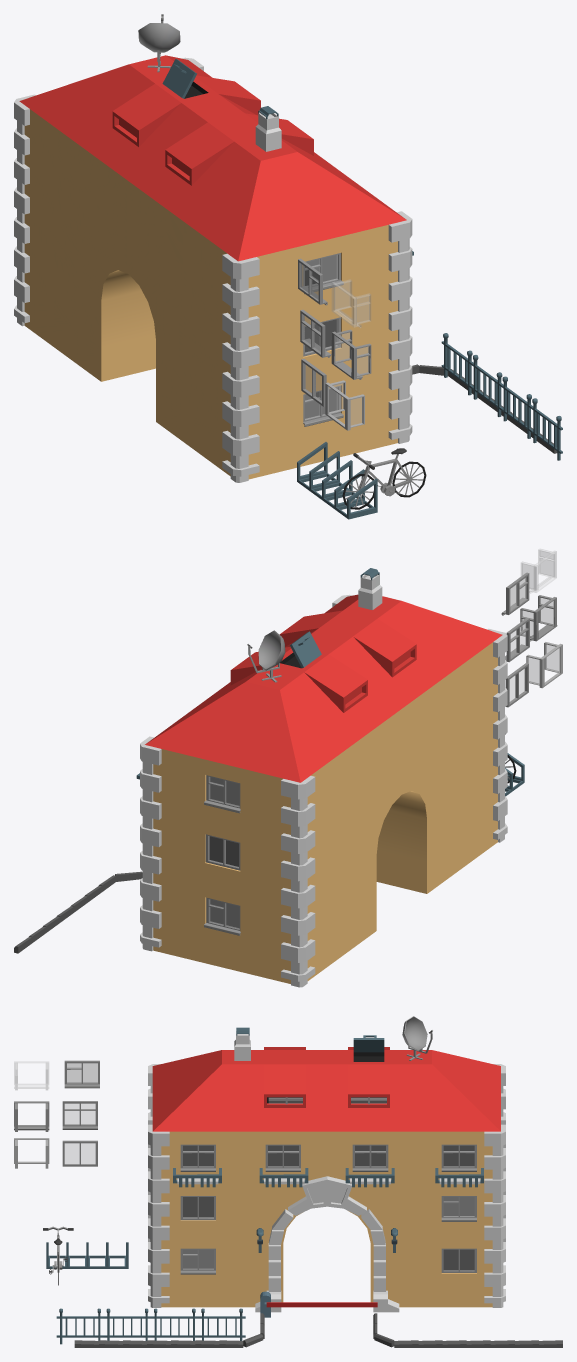
File: PanelHouse3.fbx
The picture shows the model from 3 angles, top to bottom: view 1: azimuth 30°, elevation 25°; view 2: azimuth 150°, elevation 25°; view 3: azimuth 270°, elevation 25°; orthographic projection. The views are drawn at different scales.
Visible parts, largest first — view 1: House, Roof, Decor, Fence, BikeParking, Bicycle, WindowOpen2, WindowOpen3, WindowOpen1, Pate, Flue, Window1.002 (+6 smaller); view 2: House, Roof, Decor, Curb.001, WindowOpen3, WindowOpen2, Window1.005, Window1.003, Pate, Window3.002, WindowOpen1, Flue (+3 smaller); view 3: House, Roof, Decor, Arch, Fence, Curb, Curb.001, Window2.004, Window1.004, Window2.003, Window2.001, Window2.002 (+16 smaller).
Part boxes in pixels (<box>): House: <box>24,109,397,479</box>; Roof: <box>19,55,406,261</box>; Decor: <box>14,57,412,482</box>; Fence: <box>441,333,562,460</box>; BikeParking: <box>297,442,377,519</box>; Bicycle: <box>342,448,426,509</box>; WindowOpen2: <box>331,329,371,379</box>; WindowOpen3: <box>325,380,364,430</box>; WindowOpen1: <box>332,279,370,327</box>; Pate: <box>138,14,180,72</box>; Flue: <box>255,106,281,151</box>; Window1.002: <box>303,385,343,426</box>; House: <box>153,642,497,983</box>; Roof: <box>145,594,502,782</box>; Decor: <box>140,594,507,987</box>; Curb.001: <box>14,871,142,953</box>; WindowOpen3: <box>526,642,562,688</box>; WindowOpen2: <box>520,595,557,641</box>; Window1.005: <box>204,897,240,935</box>; Window1.003: <box>204,775,240,813</box>; Pate: <box>247,630,285,682</box>; Window3.002: <box>205,834,240,870</box>; WindowOpen1: <box>521,549,556,593</box>; Flue: <box>358,568,382,609</box>; House: <box>161,1131,492,1307</box>; Roof: <box>152,1035,500,1131</box>; Decor: <box>148,1064,505,1307</box>; Arch: <box>255,1176,399,1312</box>; Fence: <box>56,1308,245,1344</box>; Curb: <box>74,1313,264,1347</box>; Curb.001: <box>373,1313,562,1347</box>; Window2.004: <box>62,1101,97,1129</box>; Window1.004: <box>64,1060,99,1088</box>; Window2.003: <box>352,1144,388,1171</box>; Window2.001: <box>180,1144,215,1171</box>; Window2.002: <box>265,1144,300,1171</box>.
Bounding box in the file's own units: 2621 × 2911 × 5659.
Materials: 2 (1 with a texture image).
